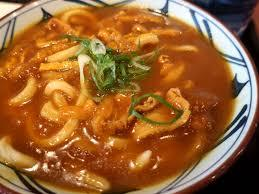curry: (1, 1, 256, 194)
